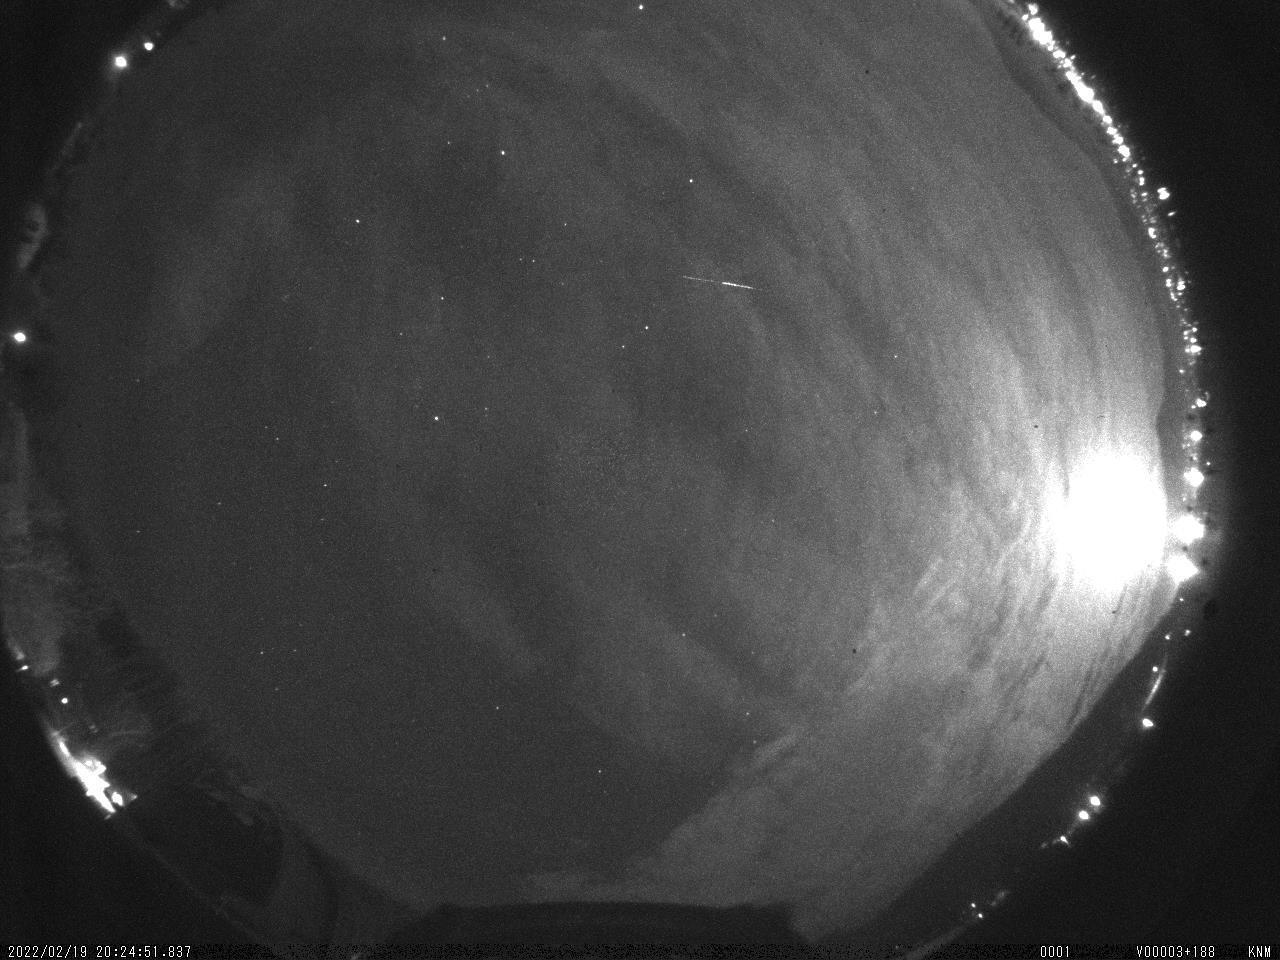Meteor: (673, 269, 764, 298)
